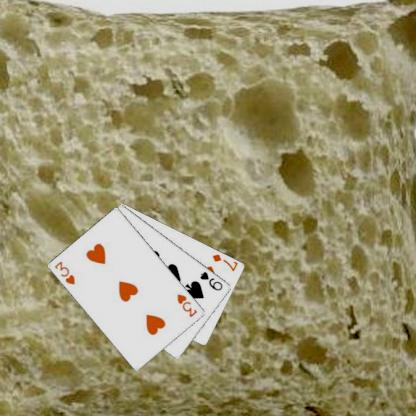3H: (52, 258, 76, 286), (174, 291, 198, 318)
7D: (210, 251, 239, 273)
9S: (198, 268, 224, 292)
